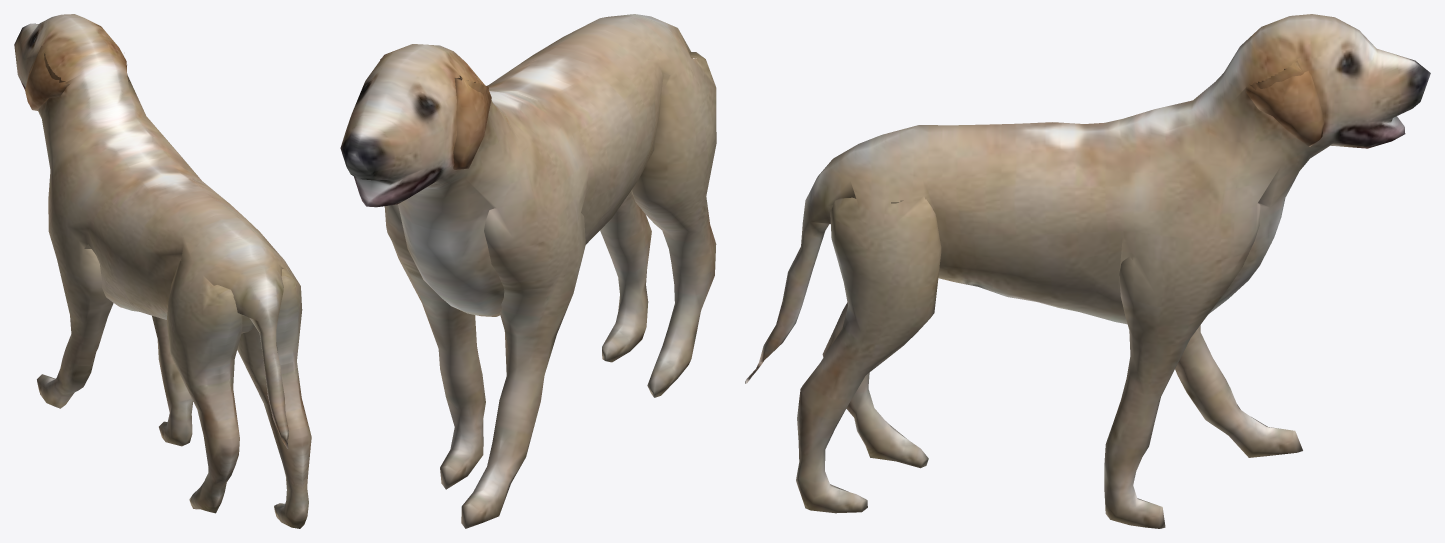
The model's file is dog_lab_hi.glb.
3 views of the same model, side by side, from view 1: azimuth 30°, elevation 25°; view 2: azimuth 150°, elevation 25°; view 3: azimuth 270°, elevation 25° (orthographic). The views are drawn at different scales.
Visible parts, largest first — view 1: dog_lab_hi; view 2: dog_lab_hi; view 3: dog_lab_hi.
Boxes of the visible parts, bbox=[...] form: dog_lab_hi: bbox=[14, 14, 311, 528]; dog_lab_hi: bbox=[340, 14, 716, 528]; dog_lab_hi: bbox=[745, 14, 1430, 528].
Size of the model in its own units: 0.2579 by 0.7195 by 0.9168.
Materials: 1 (1 with a texture image).
